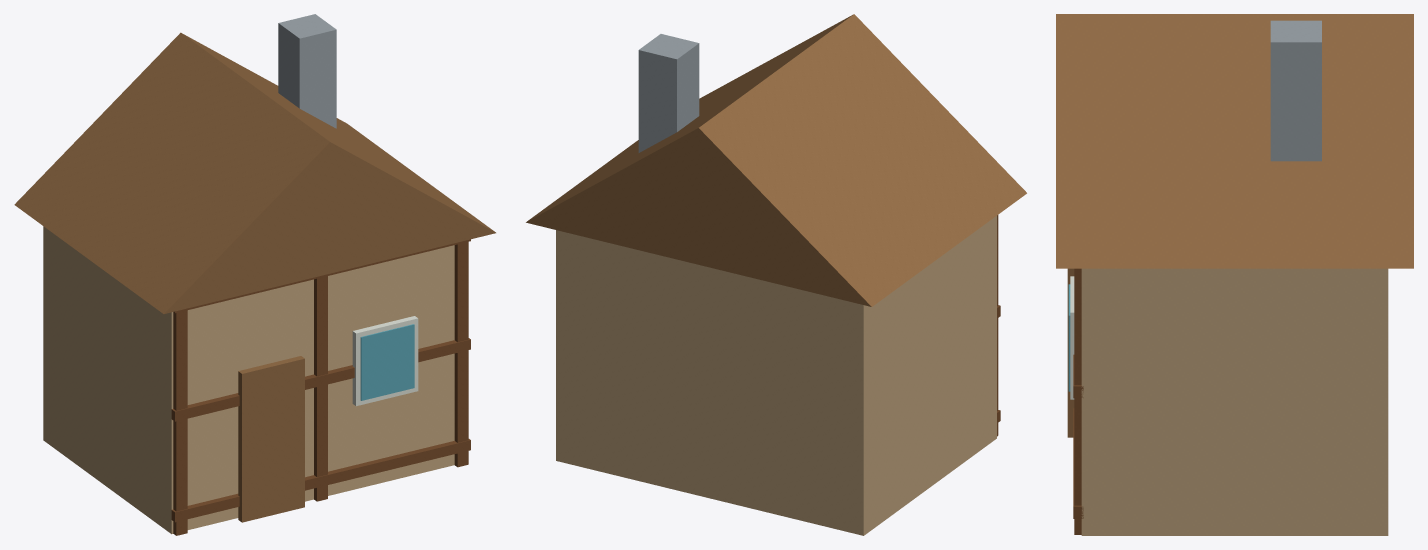
File: house.glb
The picture shows the model from 3 angles, left to right: view 1: azimuth 30°, elevation 25°; view 2: azimuth 150°, elevation 25°; view 3: azimuth 270°, elevation 25°; orthographic projection. The views are drawn at different scales.
Parts seen in each view (by area): view 1: Steep cottage roof 002, Cottage plaster walls 001, Cottage door 009, Masonry chimney 012, Window blue glazing 011, Timber facade beam 006, Timber facade post 003, Timber facade post 005, Timber facade post 004, Timber facade beam 007, Window trim 010, Timber facade beam 008; view 2: Cottage plaster walls 001, Steep cottage roof 002, Masonry chimney 012; view 3: Steep cottage roof 002, Cottage plaster walls 001, Masonry chimney 012, Timber facade post 005, Cottage door 009, Window trim 010.
Boxes of the visible parts, <box> form: Steep cottage roof 002: <box>14,32,495,313</box>; Cottage plaster walls 001: <box>43,226,454,534</box>; Cottage door 009: <box>238,356,304,522</box>; Masonry chimney 012: <box>278,14,336,128</box>; Window blue glazing 011: <box>360,324,414,400</box>; Timber facade beam 006: <box>171,439,470,522</box>; Timber facade post 003: <box>173,310,187,535</box>; Timber facade post 005: <box>454,241,468,467</box>; Timber facade post 004: <box>314,276,327,501</box>; Timber facade beam 007: <box>171,338,470,421</box>; Window trim 010: <box>352,316,418,406</box>; Timber facade beam 008: <box>173,239,470,313</box>; Cottage plaster walls 001: <box>556,216,996,535</box>; Steep cottage roof 002: <box>526,14,1026,306</box>; Masonry chimney 012: <box>638,34,699,152</box>; Steep cottage roof 002: <box>1056,14,1413,268</box>; Cottage plaster walls 001: <box>1081,268,1388,535</box>; Masonry chimney 012: <box>1270,20,1321,161</box>; Timber facade post 005: <box>1074,268,1081,534</box>; Cottage door 009: <box>1067,268,1074,437</box>; Window trim 010: <box>1070,276,1074,399</box>.
Bounding box in the file's own units: 4.5 × 5 × 3.5.
6 materials, 6 textured.
